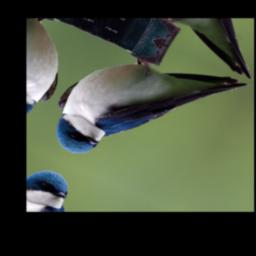Swallow: (36, 20, 250, 200)
